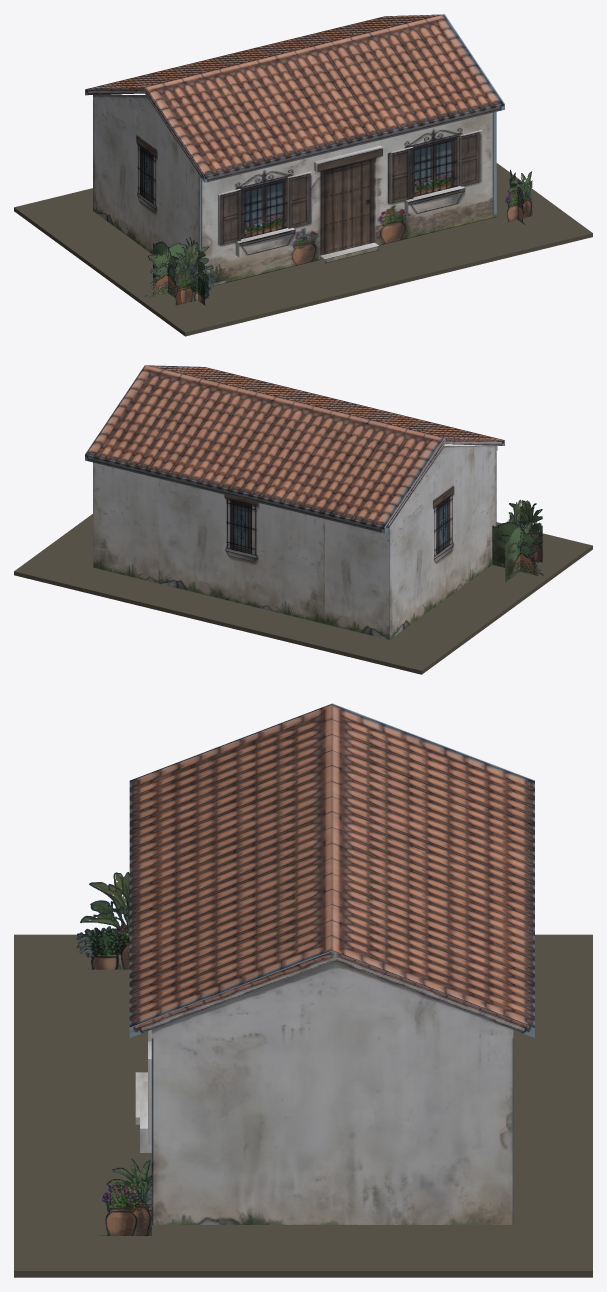
File: casa_andaluza_5v_b.glb
3 views of the same model, one above another, from view 1: azimuth 30°, elevation 25°; view 2: azimuth 150°, elevation 25°; view 3: azimuth 270°, elevation 25° (orthographic). The views are drawn at different scales.
Parts seen in each view (by area): view 1: CA5B_Casa, CA5B_Suelo, CA5B_Plantas; view 2: CA5B_Casa, CA5B_Suelo, CA5B_Plantas; view 3: CA5B_Casa, CA5B_Suelo, CA5B_Plantas.
Part boxes in pixels (left/top/right/bottom): CA5B_Casa: left=85, top=14, right=504, bottom=286; CA5B_Suelo: left=14, top=163, right=592, bottom=336; CA5B_Plantas: left=144, top=169, right=532, bottom=306; CA5B_Casa: left=85, top=365, right=504, bottom=639; CA5B_Suelo: left=14, top=514, right=592, bottom=674; CA5B_Plantas: left=492, top=499, right=543, bottom=582; CA5B_Casa: left=129, top=703, right=534, bottom=1224; CA5B_Suelo: left=14, top=934, right=592, bottom=1277; CA5B_Plantas: left=76, top=872, right=151, bottom=1235.
Bounding box in the file's own units: 11 × 4.3 × 8.
3 materials, 2 textured.
